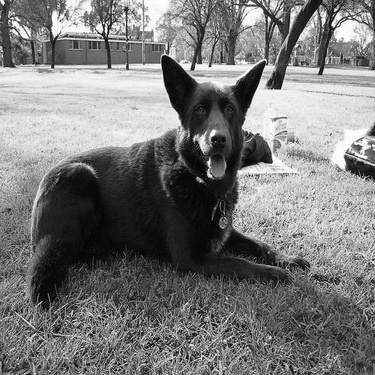dog: (9, 42, 315, 316)
